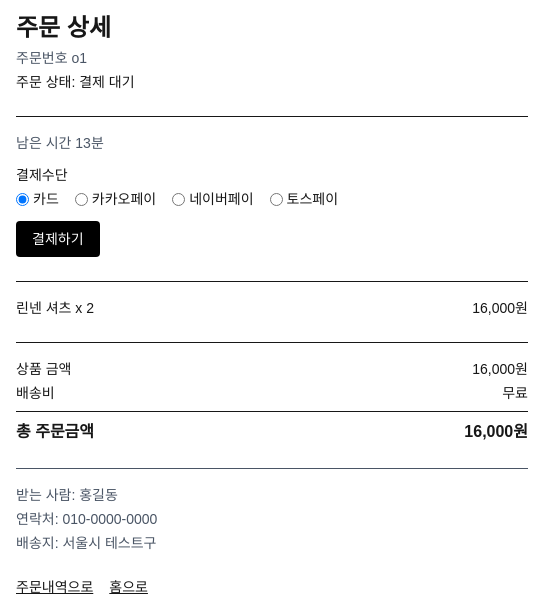
Test case: 결제하기 동작 › 성공: 결제창 결과가 없으면(리디렉션 이동) 결제창을 열었고 버튼은 계속 잠겨 있으며 아무 확정 요청도 없다
This screenshot has width=545, height=611.
Step 1. Click the button "결제하기" → point(58, 239), box [16, 221, 100, 257]
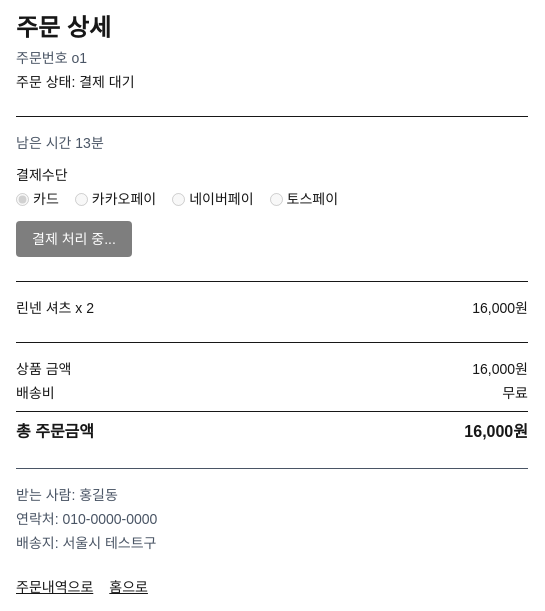
Expected: the radio button labelled "카드" is disabled, [16, 192, 29, 206]
Now the button "결제 처리 중..." is disabled, box [16, 221, 132, 257]
